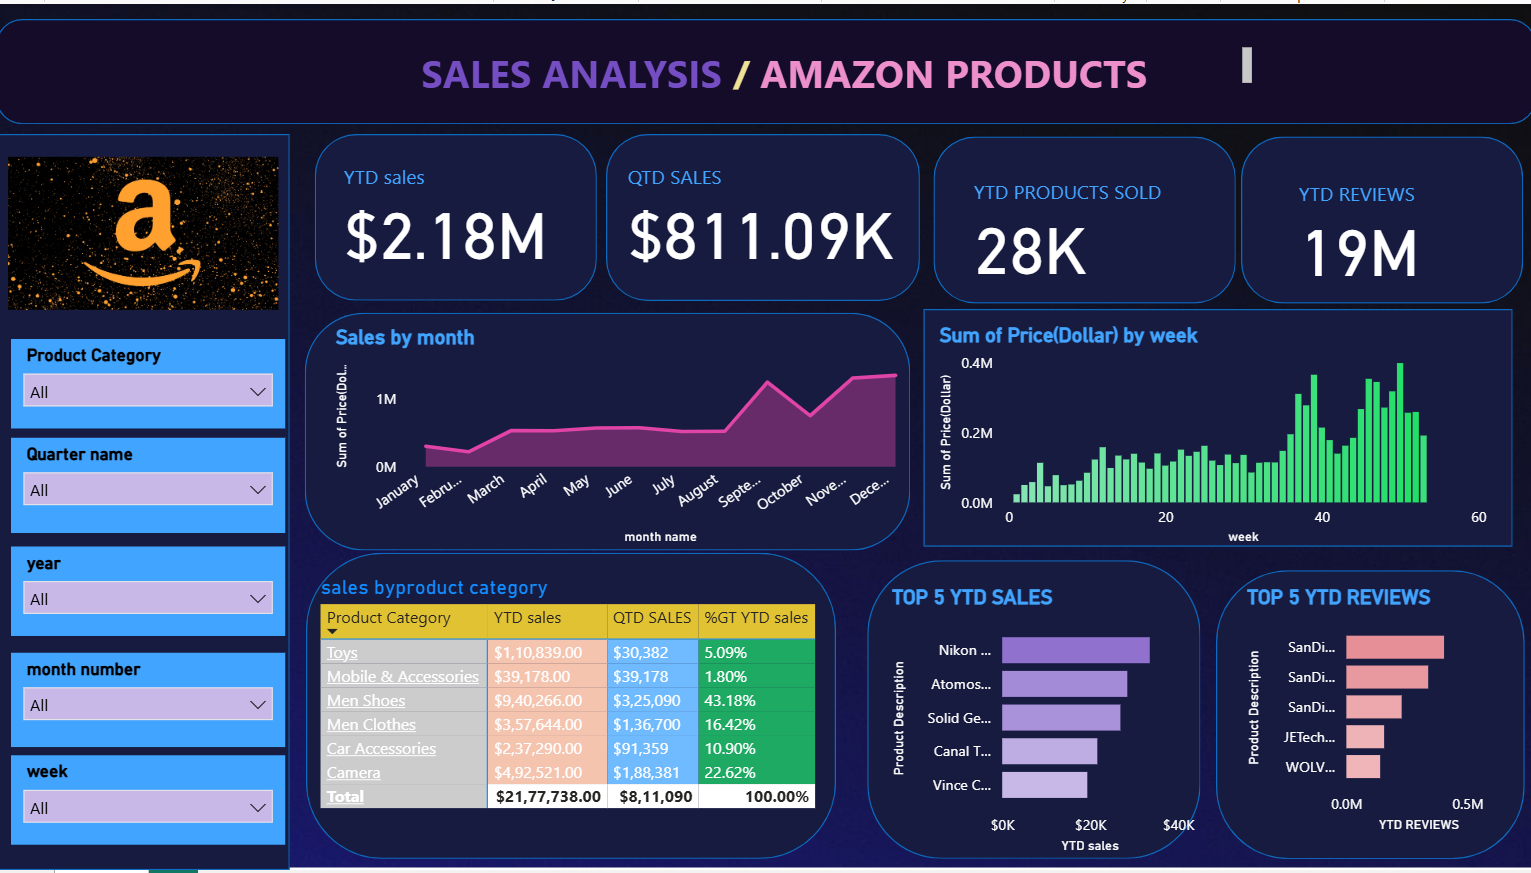

This screenshot's page, from the dashboard's own definition file:
{"tool":"powerbi","page":{"name":"Page 1","canvas":[1280,720],"ordinal":0},"visuals":[{"type":"shape","box":[0,12.5,1280.6,87.5],"z":0},{"type":"textbox","box":[347.7,31.4,701.2,45],"z":1000},{"type":"shape","box":[0,108.4,244.3,612],"z":2000},{"type":"shape","box":[264.8,108.4,234.6,138.6],"z":3000},{"type":"shape","box":[506.9,108.3,261.1,138.9],"z":4000},{"type":"shape","box":[257.7,456.2,440.6,254.6],"z":5000},{"type":"shape","box":[1014.1,470.7,256.6,240.1],"z":6000},{"type":"shape","box":[779.2,109.7,251.4,138.9],"z":7000},{"type":"shape","box":[1034.7,109.7,234.7,138.9],"z":8000},{"type":"shape","box":[771.2,253.9,489.9,197.6],"z":9000},{"type":"shape","box":[257,257,503.5,197.7],"z":10000},{"type":"cardVisual","fields":{"Data":["Amazon_Data.YTD sales"]},"box":[272.3,124.7,220.3,106],"z":11000},{"type":"cardVisual","fields":{"Data":["Amazon_Data.QTD SALES"]},"box":[508.3,113.9,262.5,127.8],"z":12000},{"type":"cardVisual","fields":{"Data":["Amazon_Data.YTD PRODUCTS SOLD"]},"box":[795.8,108.3,219.4,165.3],"z":13000},{"type":"cardVisual","fields":{"Data":["Amazon_Data.YTD REVIEWS"]},"box":[1066.7,126.4,170.8,130.6],"z":14000},{"type":"areaChart","title":"Sales by month","fields":{"Y":["Sum(Amazon_Data.Price(Dollar))"],"Category":["Date table.month name"]},"box":[277.2,267.6,489.9,186.6],"z":15000},{"type":"columnChart","fields":{"Category":["Date table.week"],"Y":["Sum(Amazon_Data.Price(Dollar))"]},"box":[779.4,264.8,465.2,189.4],"z":16000},{"type":"pivotTable","title":"sales byproduct category ","fields":{"Values":["Amazon_Data.YTD sales1","Amazon_Data.QTD SALES","Amazon_Data.YTD sales"],"Rows":["Amazon_Data.Product Category"]},"box":[264.8,474.8,429.5,205.8],"z":17000},{"type":"shape","box":[724.5,462.4,277.2,248.4],"z":18000},{"type":"barChart","title":"TOP 5 YTD SALES","fields":{"Y":["Amazon_Data.YTD sales"],"Category":["Amazon_Data.Product Description"]},"box":[739.6,483,262.1,227.8],"z":19000},{"type":"barChart","title":"TOP 5 YTD REVIEWS","fields":{"Y":["Amazon_Data.YTD REVIEWS"],"Category":["Amazon_Data.Product Description"]},"box":[1034.7,483,227.8,209.9],"z":20000},{"type":"slicer","fields":{"Values":["Amazon_Data.Product Category"]},"box":[12.3,278.6,227.8,74.1],"z":21000},{"type":"image","box":[5.2,75.9,234.9,229.7],"z":22000},{"type":"slicer","fields":{"Values":["Date table.Quarter name"]},"box":[12.3,360.9,227.8,79.6],"z":23000},{"type":"slicer","fields":{"Values":["Date table.month number"]},"box":[12.3,539.3,227.8,78.2],"z":24000},{"type":"slicer","fields":{"Values":["Date table.year"]},"box":[12.3,451.5,227.8,74.1],"z":25000},{"type":"slicer","fields":{"Values":["Date table.week"]},"box":[12.3,624.4,227.8,74.1],"z":26000}]}

Visuals, with their boxes in screenshot pixels (x1, y1, x2, y2), scaled from the page's 1280x720 canvas onto the 1531x873 screenshot:
shape: 0,15,1530,121
textbox: 416,38,1255,93
shape: 0,131,292,872
shape: 317,131,597,299
shape: 606,131,919,300
shape: 308,553,835,862
shape: 1213,571,1520,862
shape: 932,133,1233,301
shape: 1238,133,1518,301
shape: 922,308,1508,547
shape: 307,312,910,551
cardVisual - Amazon_Data.YTD sales: 326,151,589,280
cardVisual - Amazon_Data.QTD SALES: 608,138,922,293
cardVisual - Amazon_Data.YTD PRODUCTS SOLD: 952,131,1214,332
cardVisual - Amazon_Data.YTD REVIEWS: 1276,153,1480,312
"Sales by month" areaChart: 332,324,918,551
columnChart - Date table.week x Sum(Amazon_Data.Price(Dollar)): 932,321,1489,551
"sales byproduct category " pivotTable: 317,576,830,825
shape: 867,561,1198,862
"TOP 5 YTD SALES" barChart: 885,586,1198,862
"TOP 5 YTD REVIEWS" barChart: 1238,586,1510,840
slicer - Amazon_Data.Product Category: 15,338,287,428
image: 6,92,287,371
slicer - Date table.Quarter name: 15,438,287,534
slicer - Date table.month number: 15,654,287,749
slicer - Date table.year: 15,547,287,637
slicer - Date table.week: 15,757,287,847
